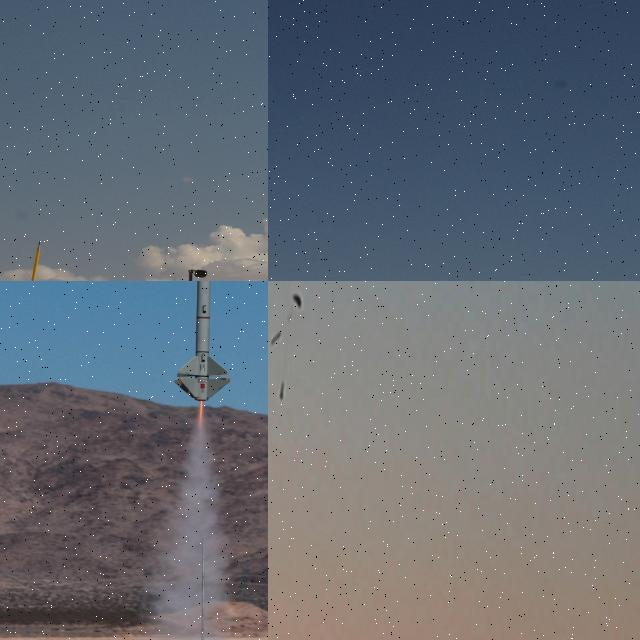Rocket: (172, 281, 232, 401), (26, 240, 41, 281), (280, 382, 285, 399)
